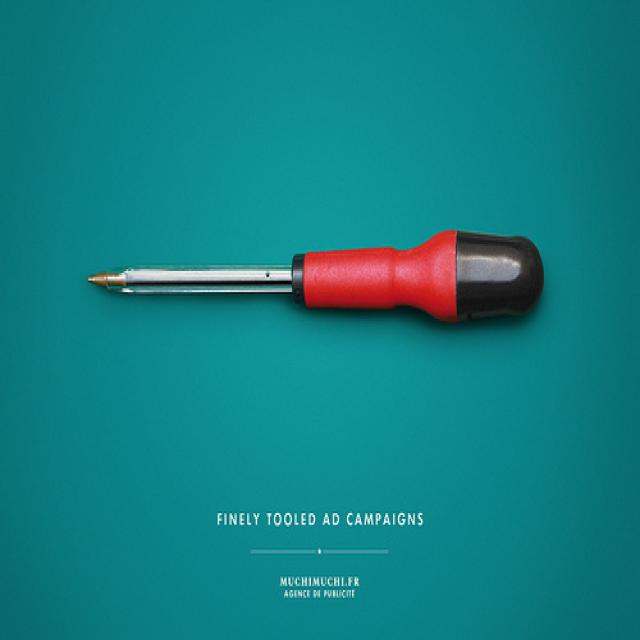screw driver: (62, 203, 600, 392)
